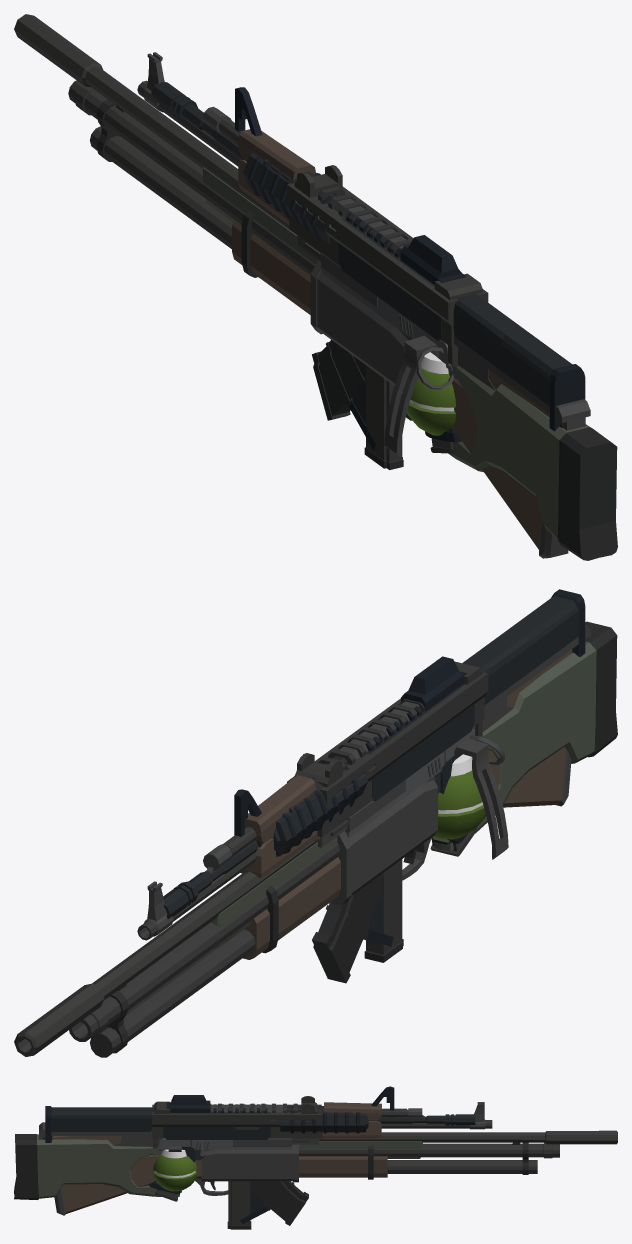
The model's file is guns.glb.
3 views of the same model, one above another, from view 1: azimuth 30°, elevation 25°; view 2: azimuth 150°, elevation 25°; view 3: azimuth 270°, elevation 25° (orthographic). The views are drawn at different scales.
Parts seen in each view (by area): view 1: awp_mesh, m3_mesh, m4a1_mesh, mp5_mesh, ak47_mesh, grenade_mesh, deagle_mesh; view 2: m3_mesh, awp_mesh, m4a1_mesh, mp5_mesh, ak47_mesh, grenade_mesh, deagle_mesh; view 3: m3_mesh, awp_mesh, m4a1_mesh, mp5_mesh, ak47_mesh, grenade_mesh, deagle_mesh.
Boxes of the visible parts, left/top/right/bottom form: awp_mesh: left=14, top=14, right=617, bottom=560; m3_mesh: left=68, top=80, right=568, bottom=558; m4a1_mesh: left=151, top=82, right=585, bottom=450; mp5_mesh: left=287, top=165, right=590, bottom=470; ak47_mesh: left=137, top=52, right=563, bottom=427; grenade_mesh: left=384, top=336, right=455, bottom=457; deagle_mesh: left=320, top=252, right=450, bottom=367; m3_mesh: left=69, top=746, right=571, bottom=1057; awp_mesh: left=14, top=621, right=617, bottom=1056; m4a1_mesh: left=163, top=589, right=585, bottom=946; mp5_mesh: left=287, top=625, right=590, bottom=962; ak47_mesh: left=137, top=649, right=572, bottom=983; grenade_mesh: left=432, top=735, right=508, bottom=859; deagle_mesh: left=345, top=728, right=475, bottom=837; m3_mesh: left=54, top=1142, right=559, bottom=1215; awp_mesh: left=14, top=1107, right=617, bottom=1199; m4a1_mesh: left=45, top=1086, right=475, bottom=1224; mp5_mesh: left=39, top=1096, right=322, bottom=1229; ak47_mesh: left=42, top=1102, right=492, bottom=1225; grenade_mesh: left=153, top=1146, right=196, bottom=1191; deagle_mesh: left=158, top=1138, right=291, bottom=1152.
Size of what is drawn, in the model's own units: 0.1158 by 0.3019 by 1.18.
